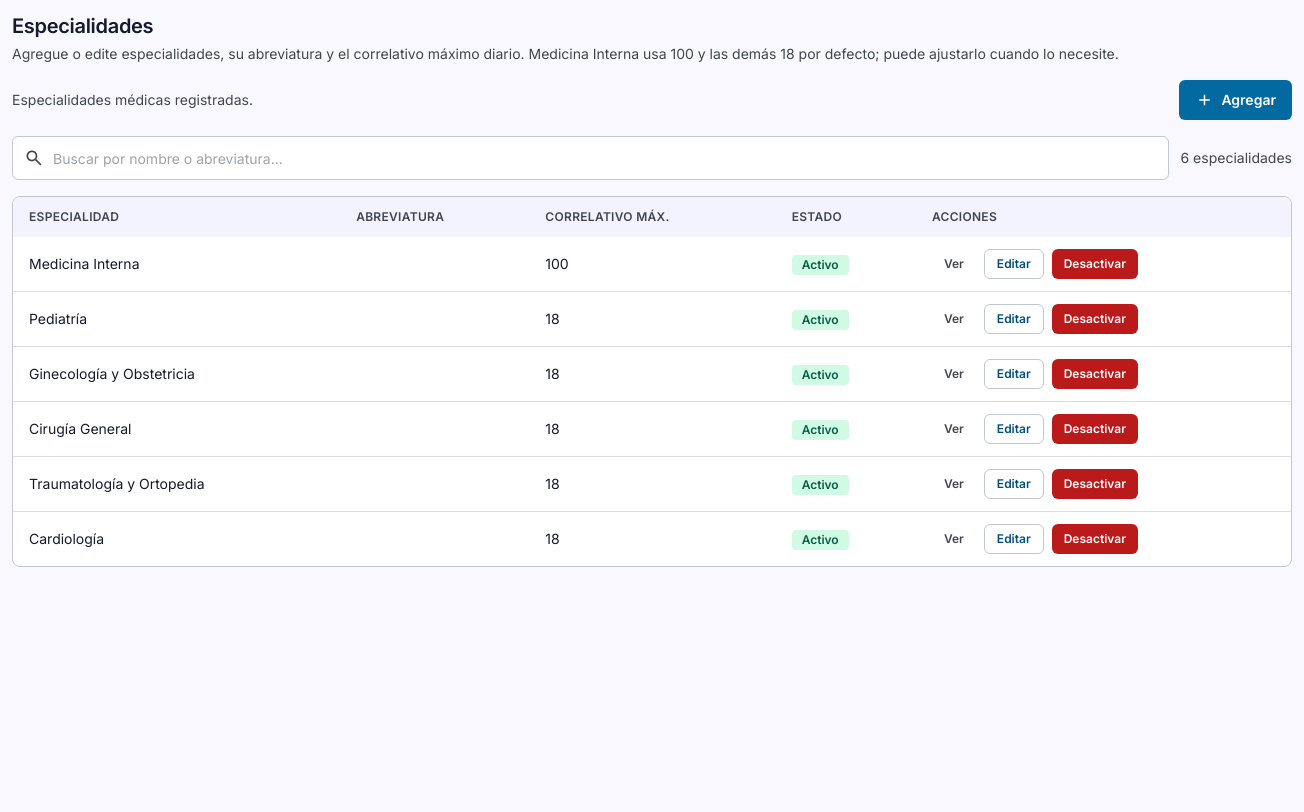
EspecialidadesPage › muestra un estado vacío cuando no hay coincidencias
Type "zzzz" into the search field named "Buscar especialidad" at point(590, 158), box x1=12 y1=136 x2=1168 y2=180
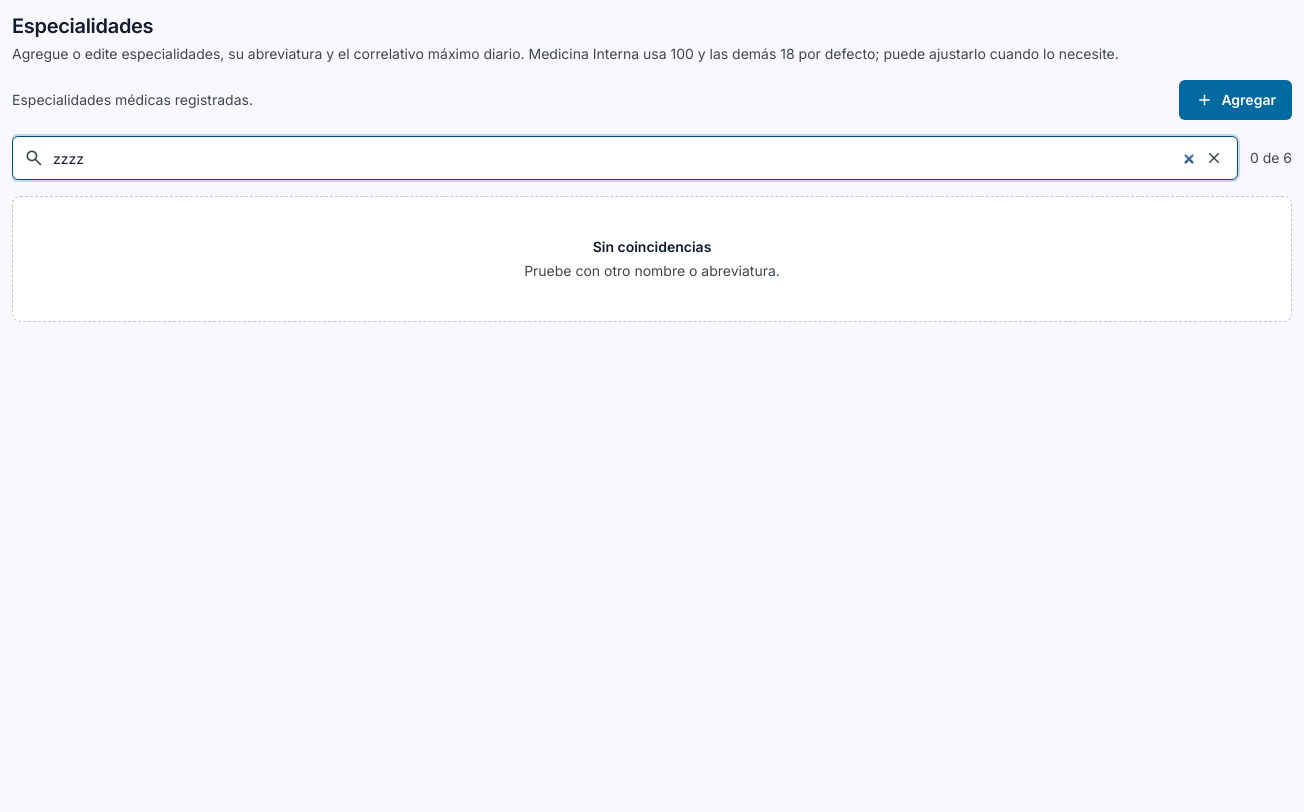
Expected: the text "Sin coincidencias" is shown, x1=593 y1=238 x2=711 y2=255
Expected: the text with test id "conteo-especialidades" reads "0 de 6", x1=1250 y1=149 x2=1292 y2=166
